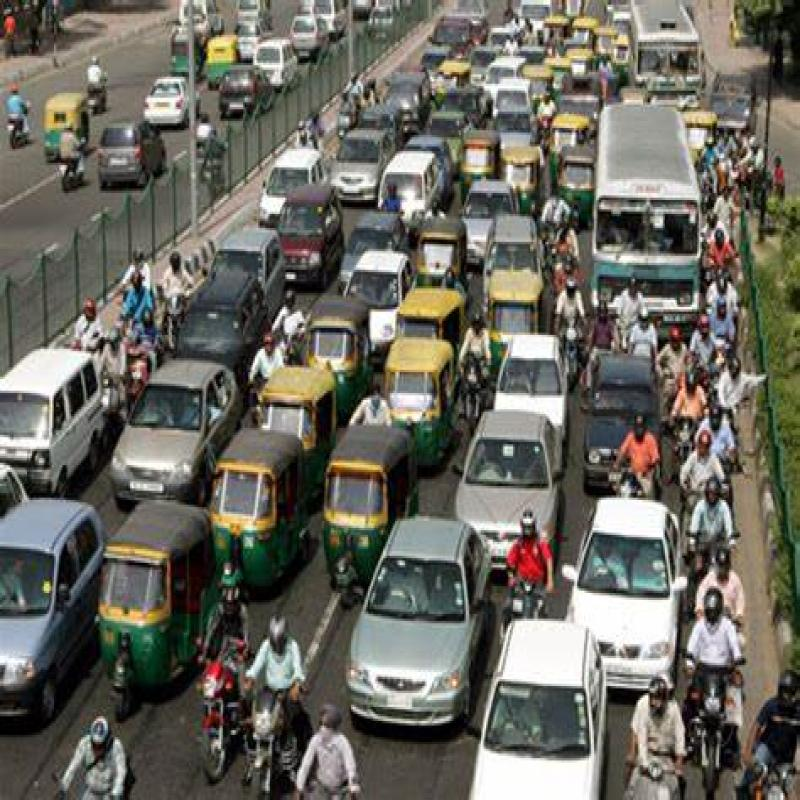auto: (90, 516, 209, 686), (208, 446, 292, 590), (372, 334, 456, 454), (332, 442, 402, 583), (261, 368, 334, 484), (302, 303, 366, 418), (474, 265, 543, 363), (428, 216, 465, 316), (499, 146, 546, 208), (462, 123, 497, 176)
bus: (578, 83, 720, 320)
car: (499, 609, 618, 800), (364, 521, 465, 738), (453, 404, 553, 577), (583, 500, 667, 676), (109, 356, 236, 468), (176, 275, 260, 360)
